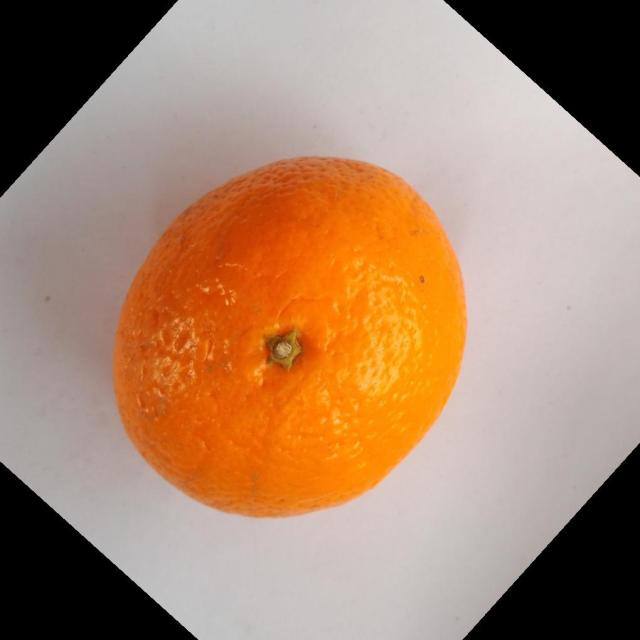fresh orange: (111, 154, 468, 519)
